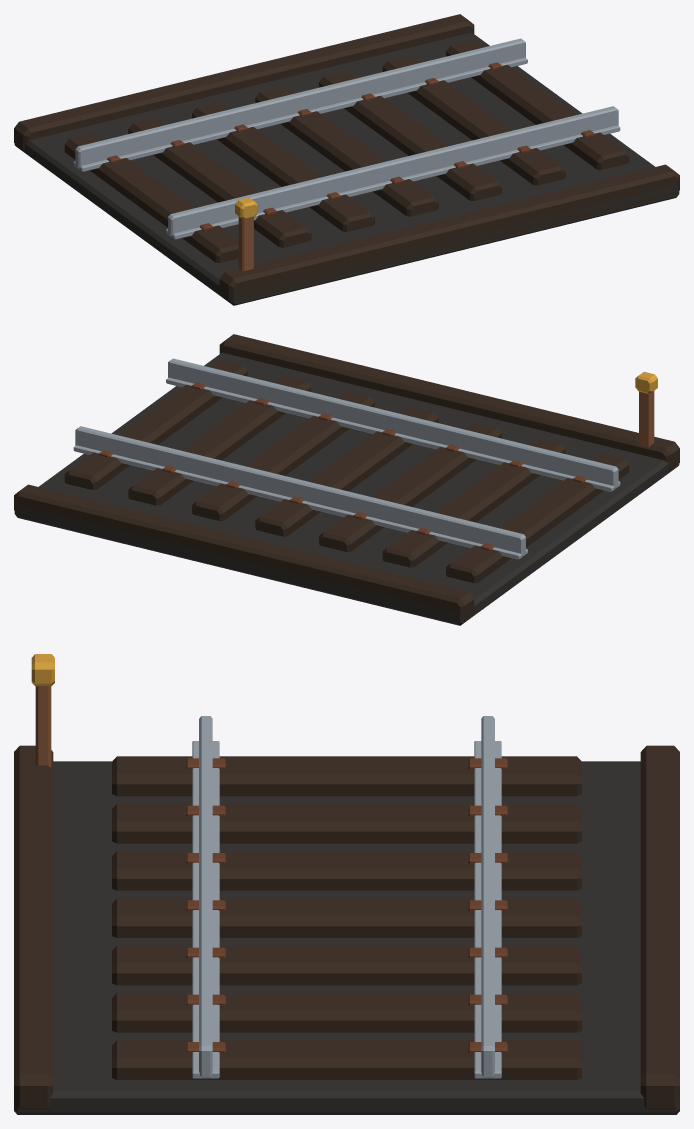
Rendered from switchyard_path_ground.glb.
The picture shows the model from 3 angles, top to bottom: view 1: azimuth 30°, elevation 25°; view 2: azimuth 150°, elevation 25°; view 3: azimuth 270°, elevation 25°; orthographic projection. The views are drawn at different scales.
Parts seen in each view (by area): view 1: lane_bed, lane_kerb1, lane_kerb-1, lane_track_rail-1, lane_track_rail1, lane_track_sleeper0, lane_track_sleeper6, lane_track_sleeper3, lane_track_sleeper5, lane_track_sleeper4, lane_track_sleeper2, lane_track_sleeper1 (+3 smaller); view 2: lane_bed, lane_kerb-1, lane_kerb1, lane_track_rail1, lane_track_rail-1, lane_track_sleeper0, lane_track_sleeper6, lane_track_sleeper3, lane_track_sleeper1, lane_track_sleeper5, lane_track_sleeper4, lane_track_sleeper2 (+3 smaller); view 3: lane_bed, lane_track_sleeper1, lane_track_sleeper0, lane_track_sleeper4, lane_track_sleeper6, lane_track_sleeper2, lane_track_sleeper5, lane_track_sleeper3, lane_kerb-1, lane_kerb1, lane_track_rail-1, lane_track_rail1 (+4 smaller).
Part boxes in pixels (bbox=[...]): lane_bed: bbox=[14, 32, 679, 305]; lane_kerb1: bbox=[219, 164, 679, 301]; lane_kerb-1: bbox=[14, 14, 474, 150]; lane_track_rail-1: bbox=[75, 38, 525, 168]; lane_track_rail1: bbox=[168, 106, 618, 236]; lane_track_sleeper0: bbox=[64, 133, 238, 262]; lane_track_sleeper6: bbox=[446, 40, 629, 169]; lane_track_sleeper3: bbox=[255, 86, 438, 216]; lane_track_sleeper5: bbox=[382, 55, 565, 185]; lane_track_sleeper4: bbox=[319, 71, 501, 200]; lane_track_sleeper2: bbox=[192, 102, 374, 231]; lane_track_sleeper1: bbox=[128, 117, 311, 247]; lane_bed: bbox=[14, 352, 679, 625]; lane_kerb-1: bbox=[14, 484, 474, 620]; lane_kerb1: bbox=[219, 334, 679, 470]; lane_track_rail1: bbox=[168, 358, 618, 488]; lane_track_rail-1: bbox=[75, 426, 525, 556]; lane_track_sleeper0: bbox=[446, 453, 629, 582]; lane_track_sleeper6: bbox=[64, 360, 247, 489]; lane_track_sleeper3: bbox=[255, 406, 438, 536]; lane_track_sleeper1: bbox=[382, 437, 565, 567]; lane_track_sleeper5: bbox=[128, 375, 311, 505]; lane_track_sleeper4: bbox=[192, 391, 374, 520]; lane_track_sleeper2: bbox=[319, 422, 501, 551]; lane_bed: bbox=[14, 761, 679, 1114]; lane_track_sleeper1: bbox=[112, 803, 581, 843]; lane_track_sleeper0: bbox=[112, 756, 581, 796]; lane_track_sleeper4: bbox=[112, 945, 581, 985]; lane_track_sleeper6: bbox=[112, 1040, 581, 1079]; lane_track_sleeper2: bbox=[112, 851, 581, 890]; lane_track_sleeper5: bbox=[112, 993, 581, 1032]; lane_track_sleeper3: bbox=[112, 898, 581, 937]; lane_kerb-1: bbox=[640, 745, 679, 1109]; lane_kerb1: bbox=[14, 745, 53, 1109]; lane_track_rail-1: bbox=[481, 716, 494, 1077]; lane_track_rail1: bbox=[199, 716, 212, 1077].
Bounding box in the file's own units: 4.06 × 0.806 × 3.4.
